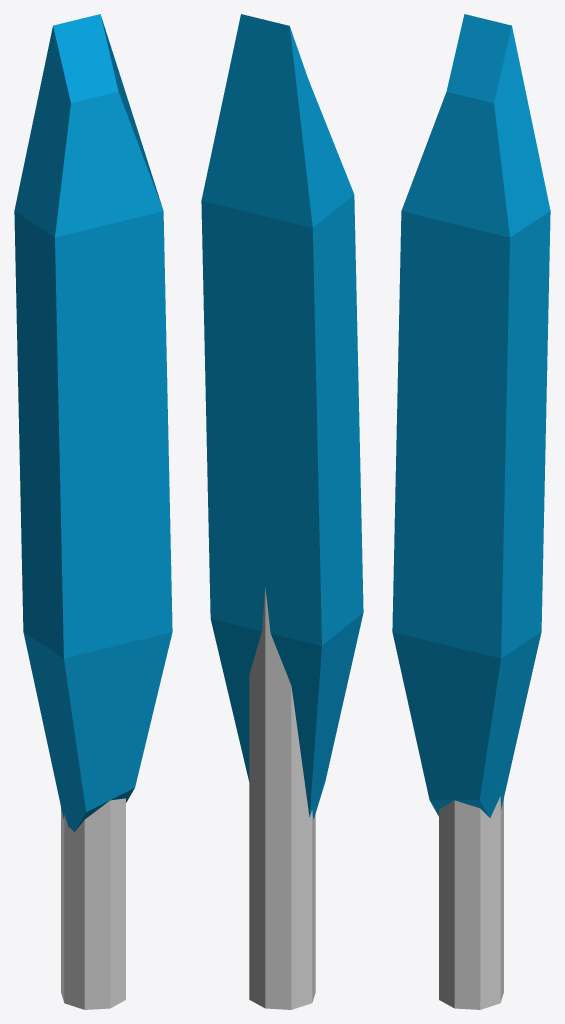
Rendered from Sword.fbx.
3 renders of one model, left to right at view 1: azimuth 30°, elevation 25°; view 2: azimuth 150°, elevation 25°; view 3: azimuth 330°, elevation 25°, orthographic. The views are drawn at different scales.
Visible parts, largest first — view 1: Cube, Cylinder; view 2: Cube, Cylinder; view 3: Cube, Cylinder.
Boxes of the visible parts, x1,y1,x2,y2 form: Cube: (14, 14, 172, 831); Cylinder: (61, 798, 125, 1009); Cube: (201, 14, 363, 818); Cylinder: (249, 587, 315, 1009); Cube: (392, 14, 550, 817); Cylinder: (439, 796, 503, 1009).
Bounding box in the file's own units: 70.83 × 601 × 55.89.
